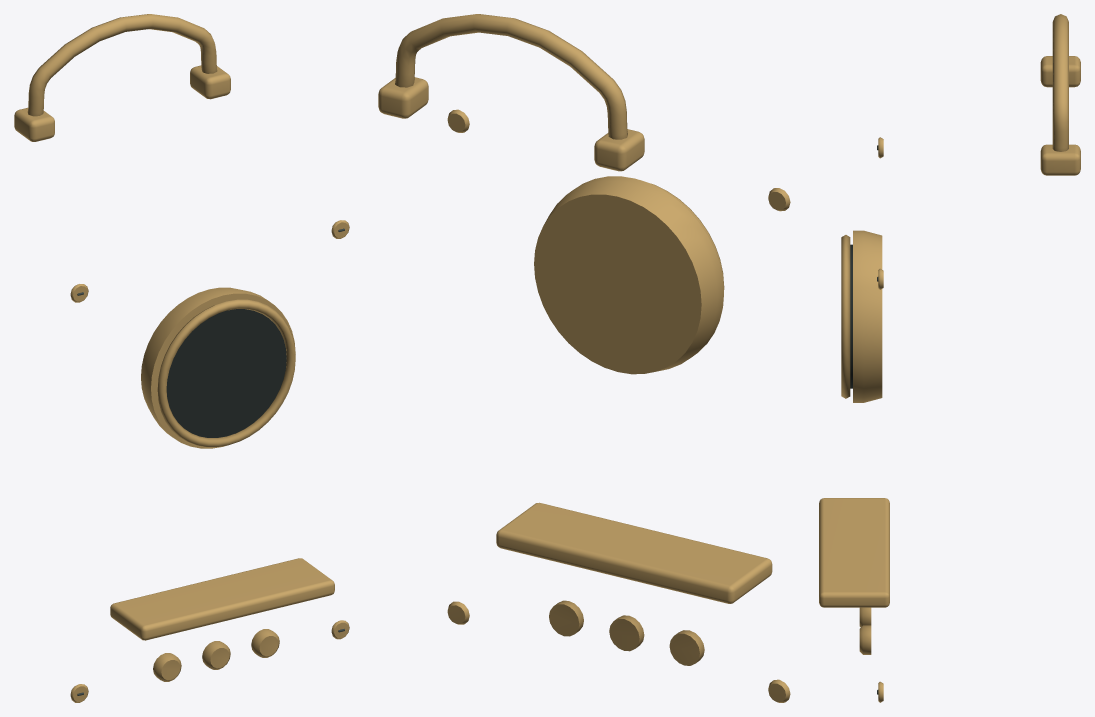
Rendered from dispenser_hardware.glb.
The picture shows the model from 3 angles, left to right: view 1: azimuth 30°, elevation 25°; view 2: azimuth 150°, elevation 25°; view 3: azimuth 270°, elevation 25°; orthographic projection. The views are drawn at different scales.
Parts seen in each view (by area): view 1: dispenser_hardware; view 2: dispenser_hardware; view 3: dispenser_hardware.
Boxes of the visible parts, x1,y1,x2,y2 form: dispenser_hardware: (14, 14, 349, 702); dispenser_hardware: (378, 14, 790, 702); dispenser_hardware: (819, 14, 1080, 702).
Bounding box in the file's own units: 1.08 × 2.18 × 0.85.
